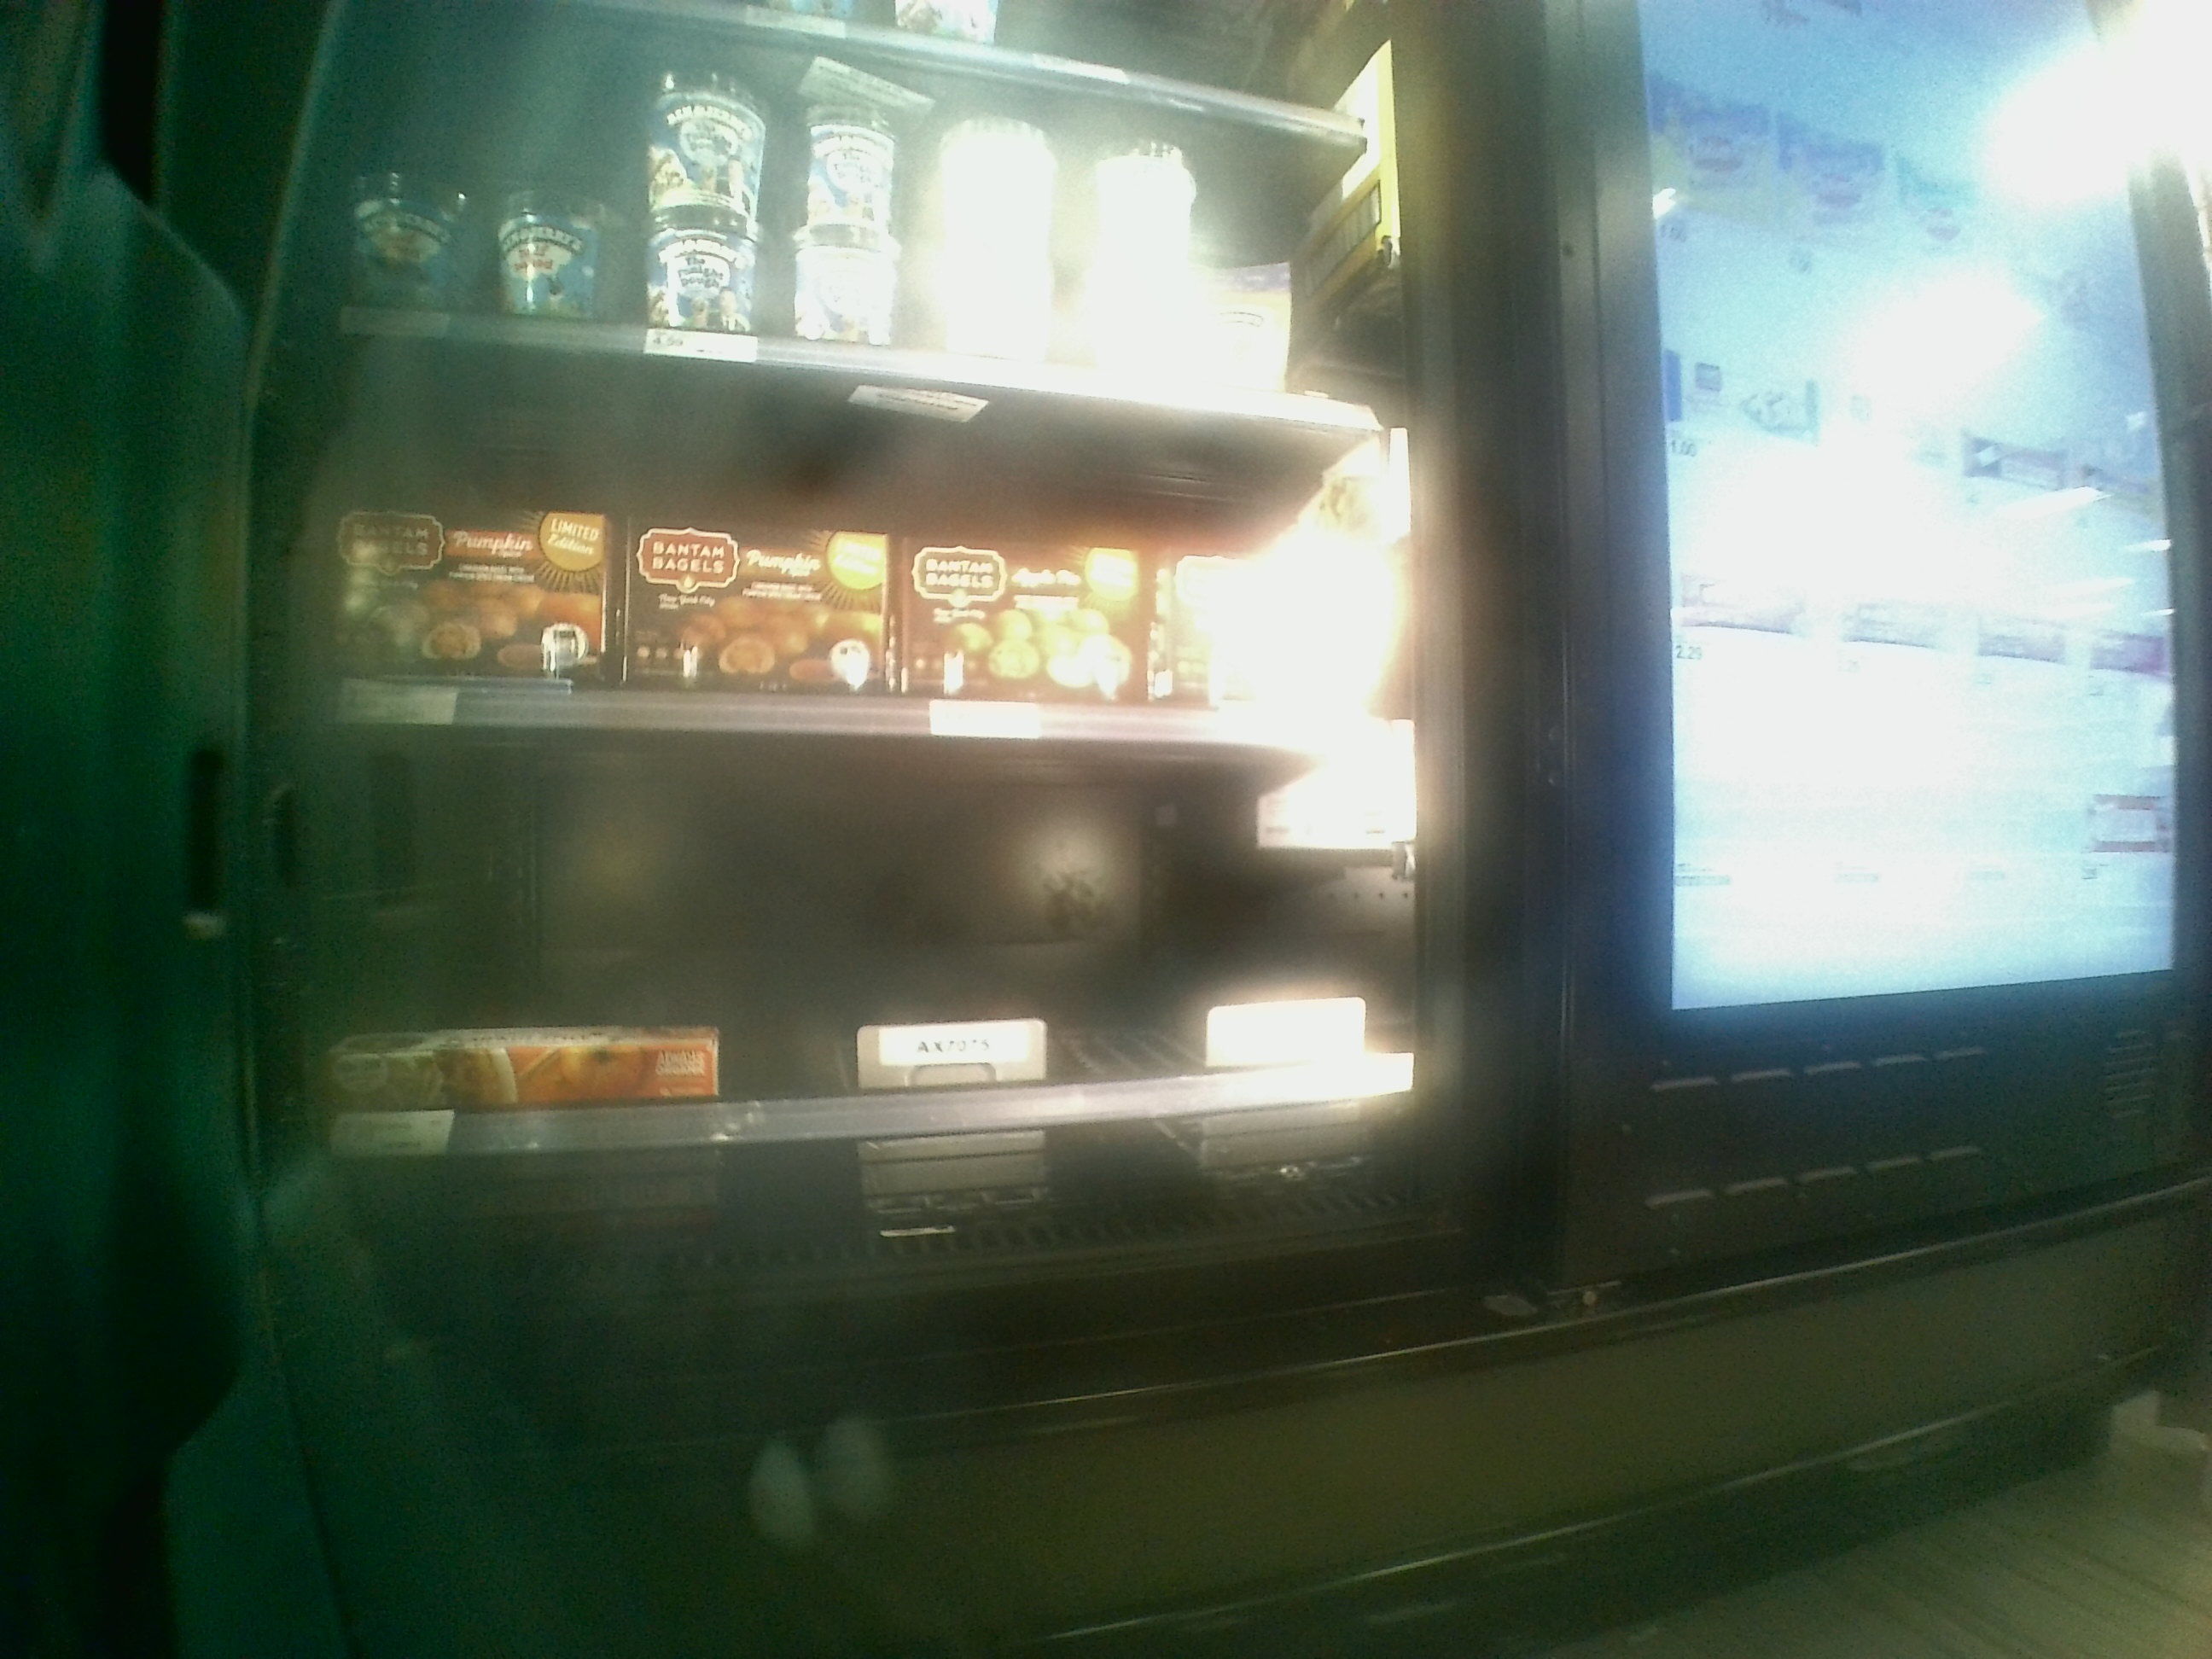shelf: (322, 338, 1407, 730), (341, 711, 1407, 1100)
